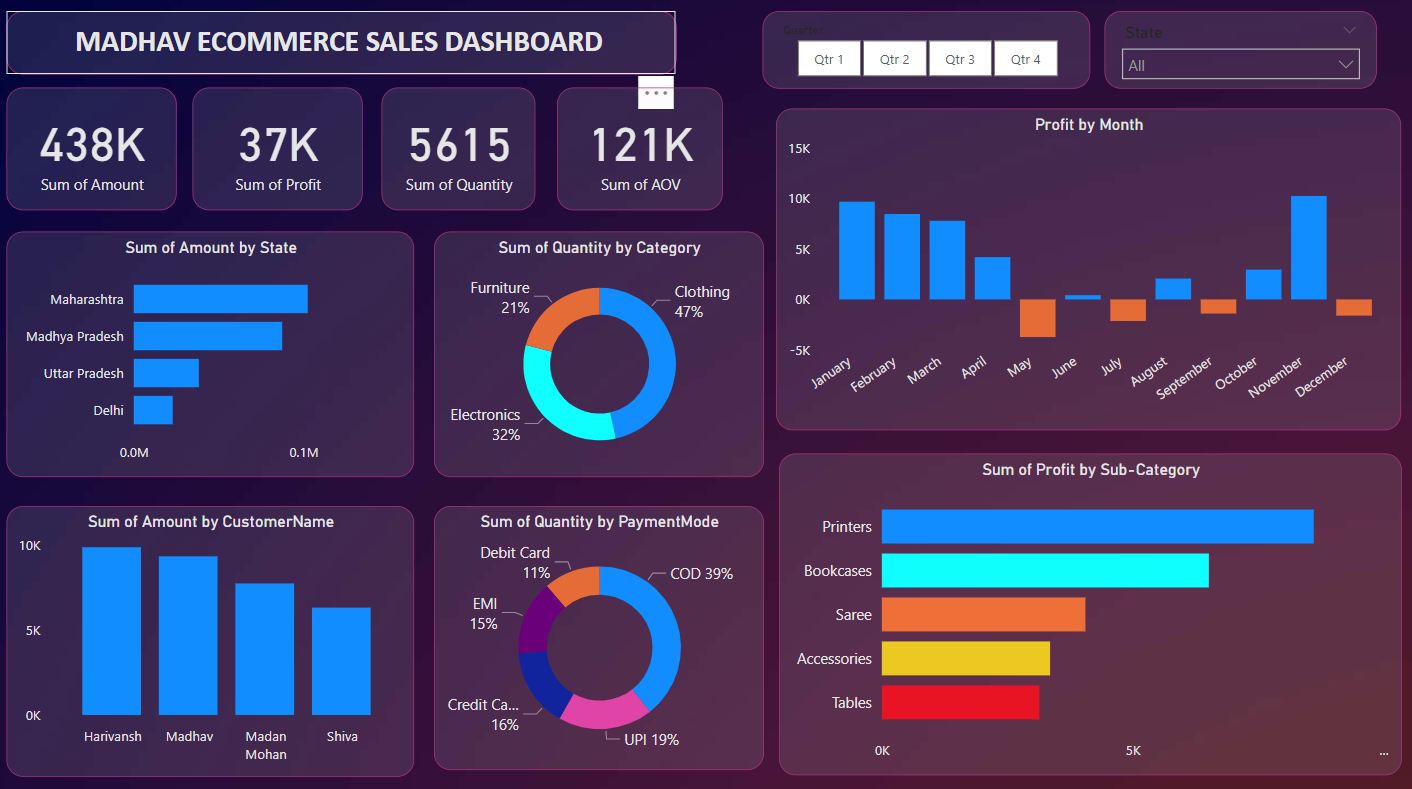

This screenshot's page, from the dashboard's own definition file:
{"tool":"powerbi","page":{"name":"Page 1","canvas":[1280,720],"ordinal":0},"visuals":[{"type":"textbox","box":[9.2,12.9,603.7,57.2],"z":0},{"type":"columnChart","title":"Profit by Month","fields":{"Category":["Orders.Order Date.Variation.Date Hierarchy.Month"],"Y":["Details.Profit"]},"box":[703.4,101.5,563.1,289.8],"z":1},{"type":"barChart","fields":{"Category":["Details.Sub-Category"],"Y":["Details.Profit"]},"box":[705.2,411.7,561.2,289.8],"z":2},{"type":"donutChart","fields":{"Category":["Details.Category"],"Y":["Details.Quantity"]},"box":[395.1,212.3,297.2,221.5],"z":3},{"type":"donutChart","fields":{"Y":["Details.Quantity"],"Category":["Details.PaymentMode"]},"box":[395.1,459.7,297.2,238.2],"z":4},{"type":"card","fields":{"Values":["Details.Amount"]},"box":[9.2,83.1,153.2,110.8],"z":5},{"type":"card","fields":{"Values":["Details.Profit"]},"box":[177.2,83.1,153.2,110.8],"z":6},{"type":"card","fields":{"Values":["Details.Quantity"]},"box":[347.1,83.1,138.5,110.8],"z":7},{"type":"card","fields":{"Values":["Details.AOV"]},"box":[505.8,83.1,149.5,110.8],"z":8},{"type":"barChart","fields":{"Category":["Orders.State"],"Y":["Details.Amount"]},"box":[9.2,212.3,367.4,221.5],"z":9},{"type":"columnChart","fields":{"Category":["Orders.CustomerName"],"Y":["Details.Amount"]},"box":[9.2,459.7,367.4,243.7],"z":10},{"type":"slicer","fields":{"Values":["Orders.Order Date.Variation.Date Hierarchy.Quarter"]},"box":[690.5,12.9,295.4,70.2],"z":11},{"type":"slicer","fields":{"Values":["Orders.State"]},"box":[998.8,12.9,245.5,70.2],"z":12}]}

Visuals, with their boxes in screenshot pixels (x1, y1, x2, y2), scaled from the page's 1280x720 canvas onto the 1412x789 screenshot:
textbox: crop(10, 14, 676, 77)
"Profit by Month" columnChart: crop(776, 111, 1397, 429)
barChart - Details.Sub-Category x Details.Profit: crop(778, 451, 1397, 769)
donutChart - Details.Category x Details.Quantity: crop(436, 233, 764, 475)
donutChart - Details.Quantity x Details.PaymentMode: crop(436, 504, 764, 765)
card - Details.Amount: crop(10, 91, 179, 212)
card - Details.Profit: crop(195, 91, 364, 212)
card - Details.Quantity: crop(383, 91, 536, 212)
card - Details.AOV: crop(558, 91, 723, 212)
barChart - Orders.State x Details.Amount: crop(10, 233, 415, 475)
columnChart - Orders.CustomerName x Details.Amount: crop(10, 504, 415, 771)
slicer - Orders.Order Date.Variation.Date Hierarchy.Quarter: crop(762, 14, 1088, 91)
slicer - Orders.State: crop(1102, 14, 1373, 91)
